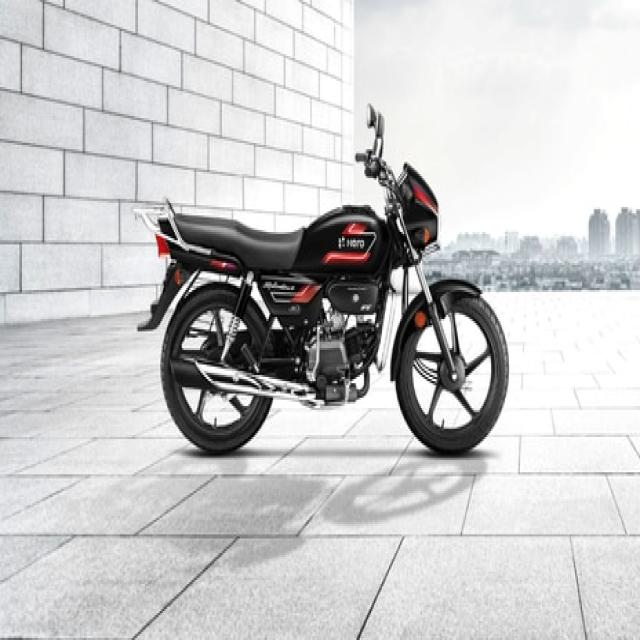MOTORCYCLE: (152, 103, 514, 456)
